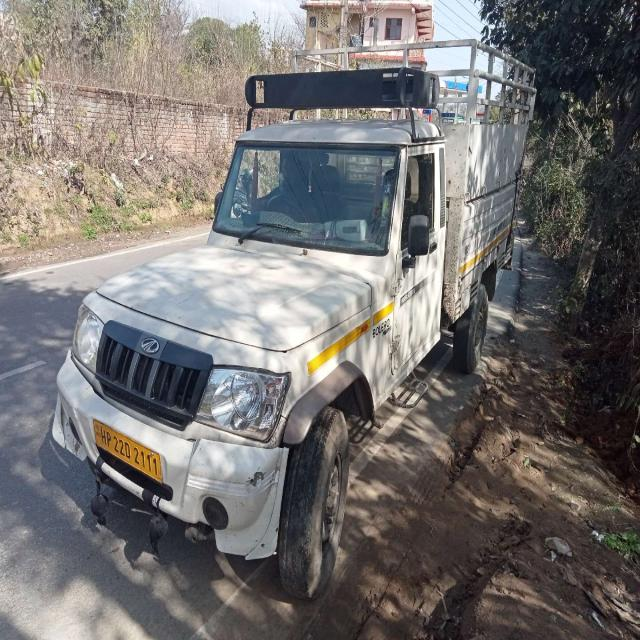light_vehicle: (52, 124, 509, 529)
